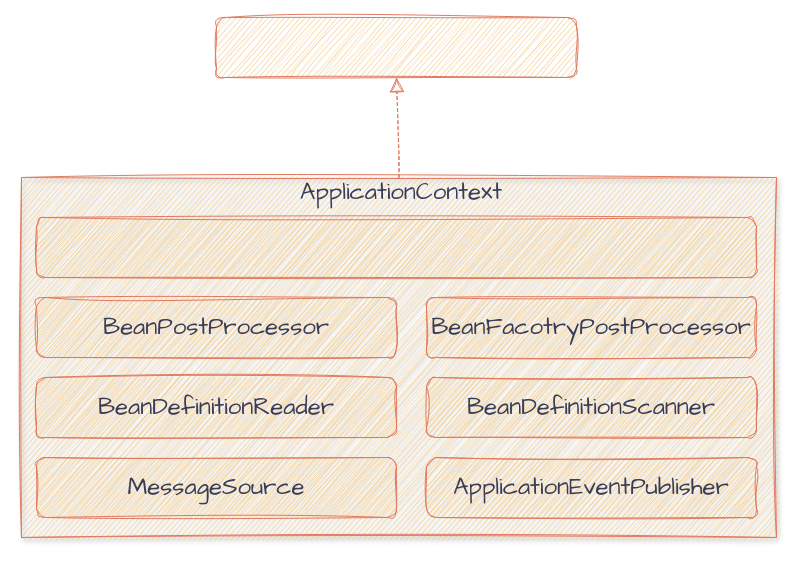
The diagram is 800 pixels wide and 562 high, and some of its shapes have lost their labels. Each missing label, with the centre of its shape:
"BeanDefinitionRegistry" belongs at pixel 396 47.
"BeanFacotry" belongs at pixel 396 247.
